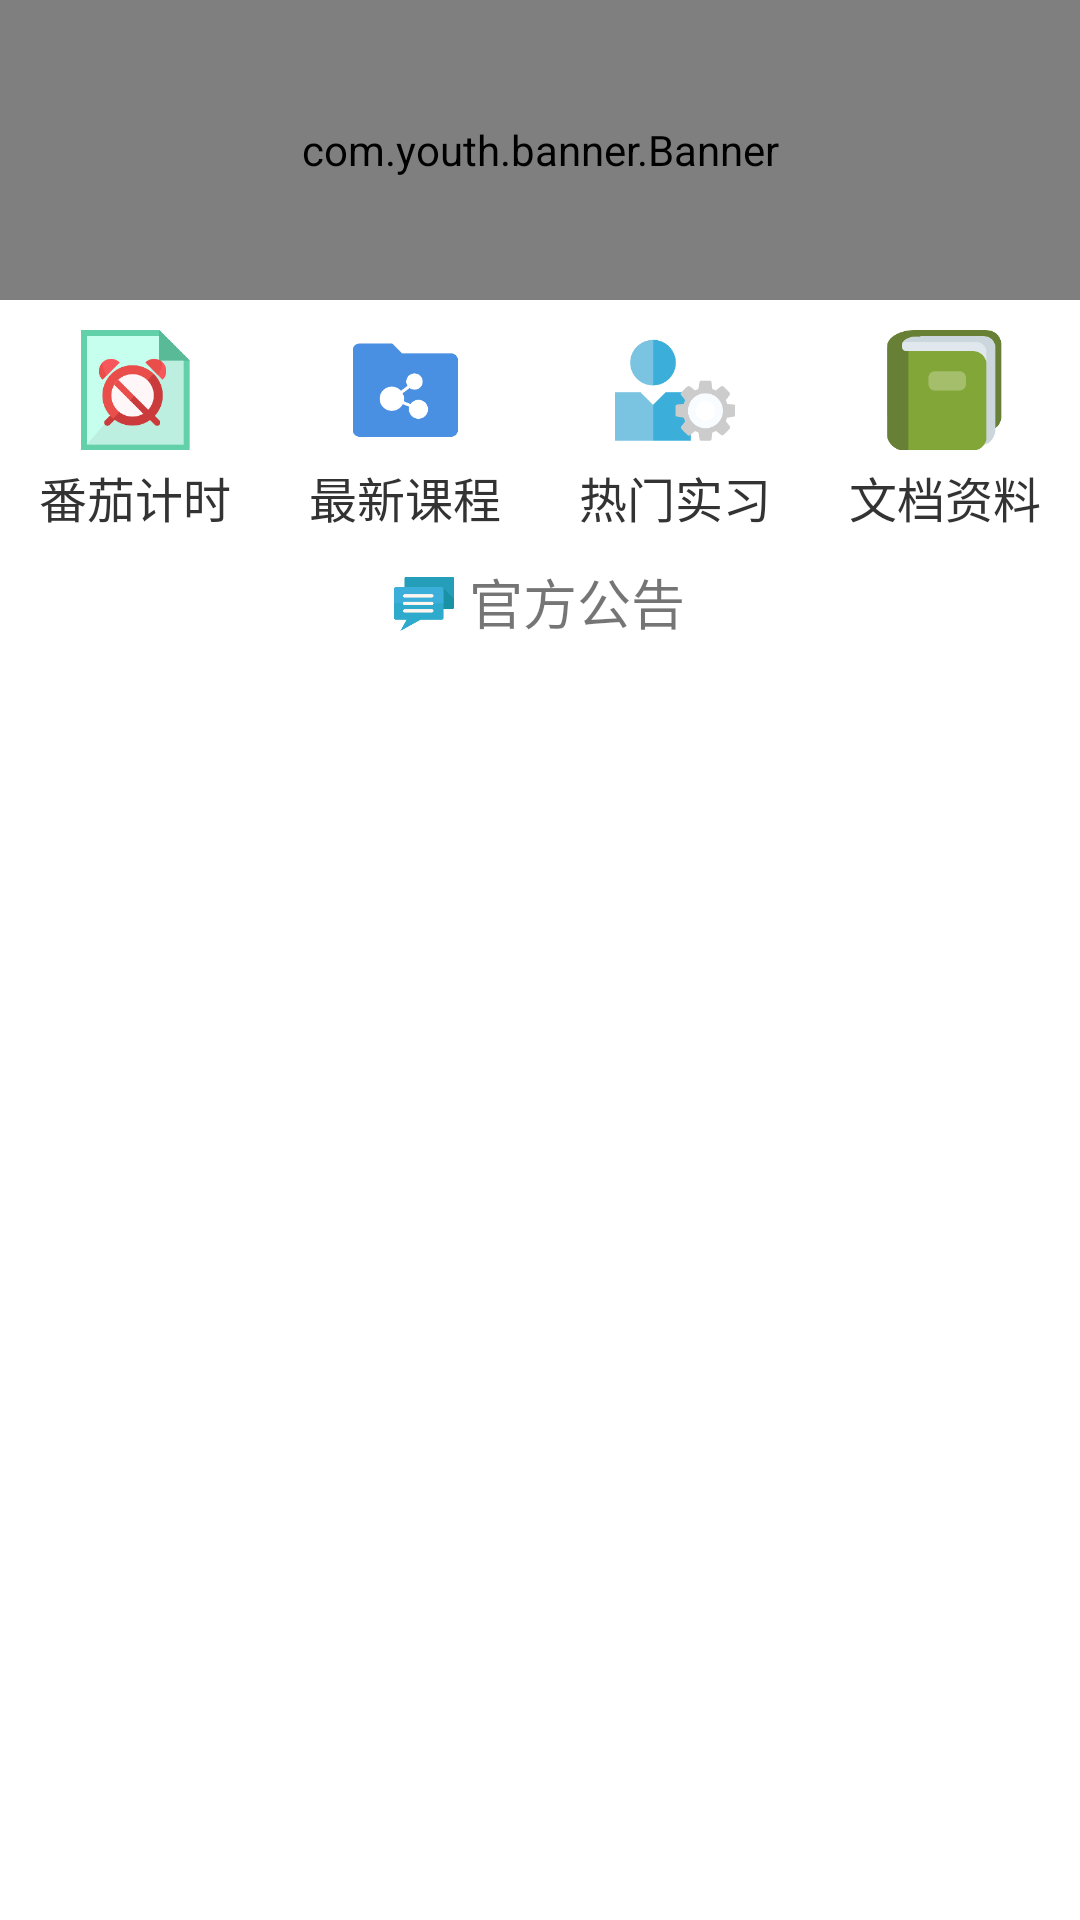

Named icons in this screenshot (1080 × 1920) and their bounding boxes, (x1, y1, x2, y2):
gonggaoicon: (394, 577, 454, 631)
partjobicon: (615, 339, 735, 441)
